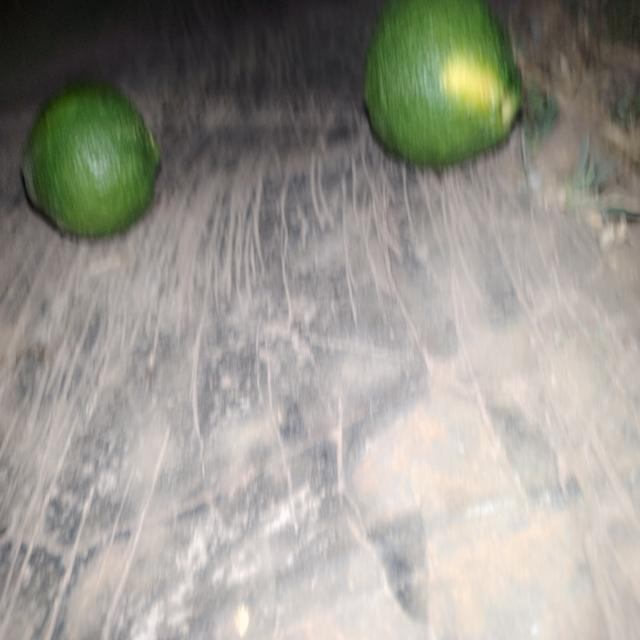Unripe: (15, 65, 186, 258), (357, 2, 526, 189)
